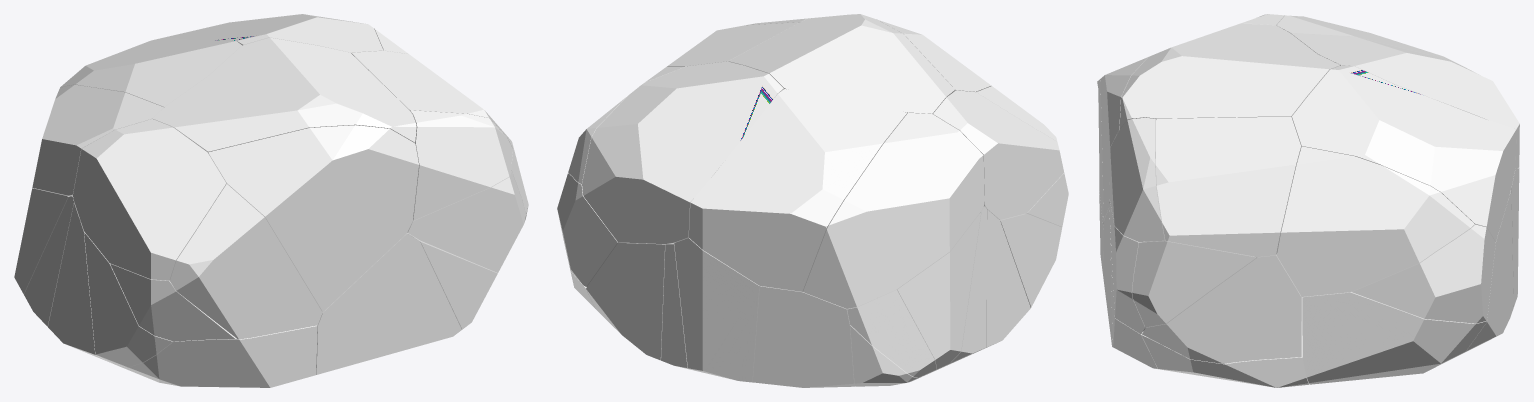
The model's file is Medic_salt_1_broken.fbx.
3 views of the same model, side by side, from view 1: azimuth 30°, elevation 25°; view 2: azimuth 150°, elevation 25°; view 3: azimuth 270°, elevation 25° (orthographic). The views are drawn at different scales.
Visible parts, largest first — view 1: medic_salt_1_cell.012, medic_salt_1_cell.019, medic_salt_1_cell.015, medic_salt_1_cell.027, medic_salt_1_cell.003, medic_salt_1_cell.020, medic_salt_1_cell.023, medic_salt_1_cell.006, medic_salt_1_cell.021, medic_salt_1_cell.017, medic_salt_1_cell.009, medic_salt_1_cell.024 (+6 smaller); view 2: medic_salt_1_cell.021, medic_salt_1_cell.024, medic_salt_1_cell.006, medic_salt_1_cell.019, medic_salt_1_cell.011, medic_salt_1_cell.018, medic_salt_1_cell.015, medic_salt_1_cell.004, medic_salt_1_cell, medic_salt_1_cell.005, medic_salt_1_cell.002, medic_salt_1_cell.026 (+9 smaller); view 3: medic_salt_1_cell.024, medic_salt_1_cell.014, medic_salt_1_cell.025, medic_salt_1_cell.019, medic_salt_1_cell.029, medic_salt_1_cell.028, medic_salt_1_cell.026, medic_salt_1_cell.021, medic_salt_1_cell.013, medic_salt_1_cell.023, medic_salt_1_cell.022, medic_salt_1_cell.017 (+8 smaller).
Boxes of the visible parts, left/top/right/bottom form: medic_salt_1_cell.012: left=208, top=125, right=418, bottom=311; medic_salt_1_cell.019: left=152, top=37, right=416, bottom=153; medic_salt_1_cell.015: left=73, top=119, right=226, bottom=280; medic_salt_1_cell.027: left=170, top=184, right=322, bottom=339; medic_salt_1_cell.003: left=316, top=233, right=461, bottom=374; medic_salt_1_cell.020: left=119, top=325, right=317, bottom=387; medic_salt_1_cell.023: left=410, top=110, right=512, bottom=220; medic_salt_1_cell.006: left=32, top=84, right=163, bottom=196; medic_salt_1_cell.021: left=60, top=37, right=242, bottom=107; medic_salt_1_cell.017: left=407, top=171, right=525, bottom=272; medic_salt_1_cell.009: left=84, top=232, right=172, bottom=367; medic_salt_1_cell.024: left=167, top=14, right=383, bottom=52; medic_salt_1_cell.021: left=689, top=89, right=907, bottom=291; medic_salt_1_cell.024: left=582, top=61, right=783, bottom=243; medic_salt_1_cell.006: left=803, top=112, right=984, bottom=308; medic_salt_1_cell.019: left=728, top=14, right=954, bottom=113; medic_salt_1_cell.011: left=674, top=238, right=759, bottom=382; medic_salt_1_cell.018: left=752, top=286, right=855, bottom=387; medic_salt_1_cell.015: left=933, top=90, right=1064, bottom=219; medic_salt_1_cell.004: left=586, top=242, right=674, bottom=360; medic_salt_1_cell: left=897, top=212, right=981, bottom=370; medic_salt_1_cell.005: left=847, top=289, right=936, bottom=377; medic_salt_1_cell.002: left=983, top=209, right=1030, bottom=349; medic_salt_1_cell.026: left=557, top=173, right=620, bottom=286; medic_salt_1_cell.024: left=1292, top=65, right=1516, bottom=241; medic_salt_1_cell.014: left=1277, top=146, right=1474, bottom=296; medic_salt_1_cell.025: left=1155, top=116, right=1301, bottom=256; medic_salt_1_cell.019: left=1119, top=23, right=1340, bottom=128; medic_salt_1_cell.029: left=1302, top=292, right=1486, bottom=384; medic_salt_1_cell.028: left=1142, top=253, right=1301, bottom=363; medic_salt_1_cell.026: left=1352, top=224, right=1495, bottom=323; medic_salt_1_cell.021: left=1290, top=33, right=1519, bottom=168; medic_salt_1_cell.013: left=1132, top=240, right=1256, bottom=327; medic_salt_1_cell.023: left=1109, top=117, right=1165, bottom=241; medic_salt_1_cell.022: left=1141, top=297, right=1309, bottom=387; medic_salt_1_cell.017: left=1109, top=200, right=1145, bottom=334.
Bounding box in the file's own units: 172 × 101 × 156.
